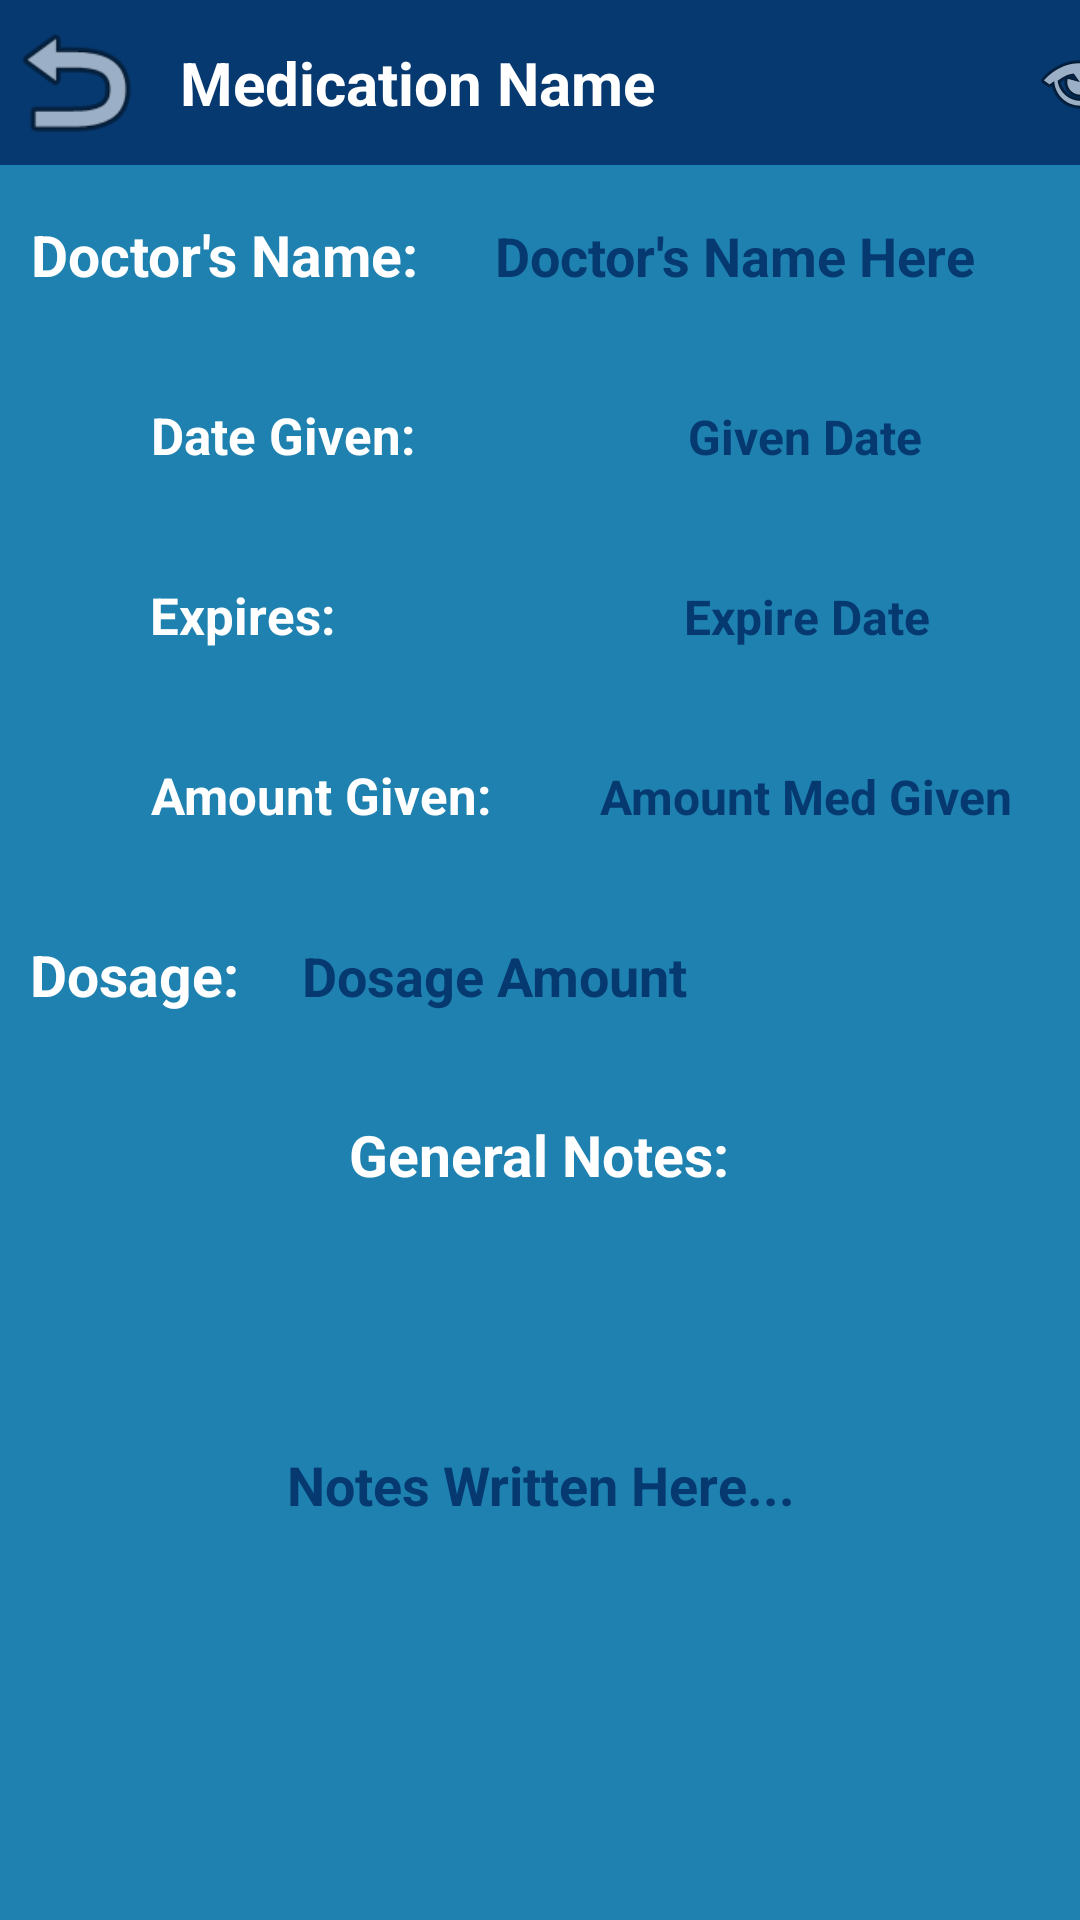

Icons on this 1080x1920 Android screen, each with its box as region(x1, y1, x2, y2):
revert: region(23, 35, 130, 131)
